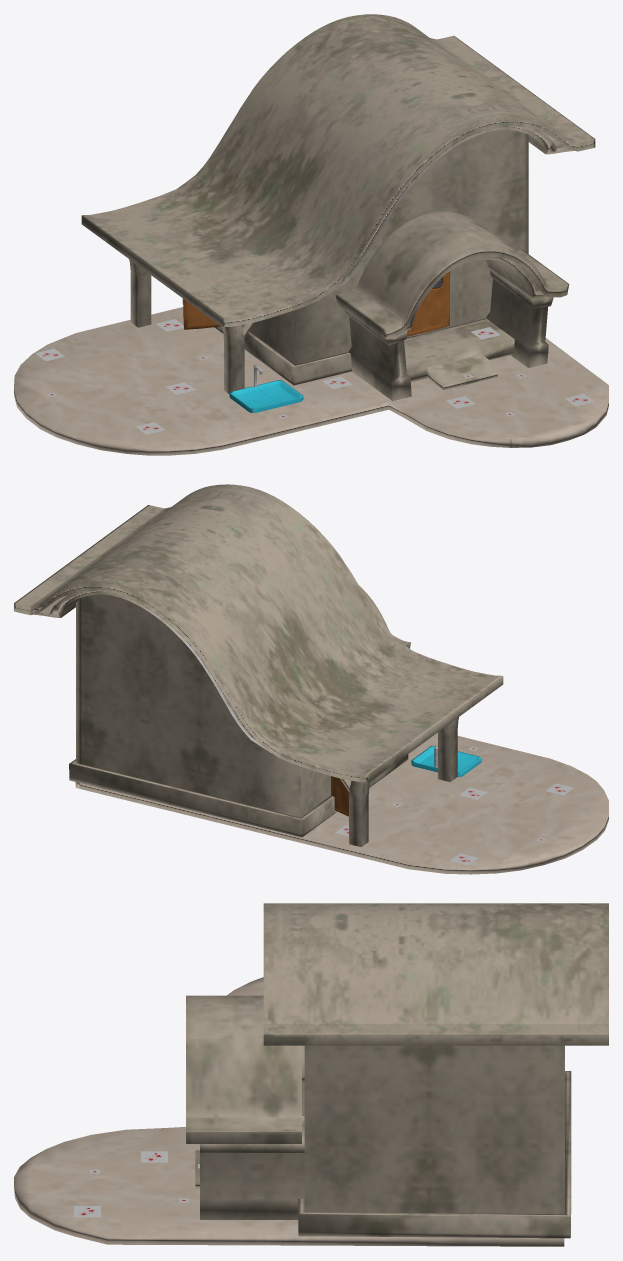
The model's file is MAP 2.fbx.
3 views of the same model, one above another, from view 1: azimuth 30°, elevation 25°; view 2: azimuth 150°, elevation 25°; view 3: azimuth 270°, elevation 25° (orthographic). The views are drawn at different scales.
Parts seen in each view (by area): view 1: House, UP, Bathr, Door01, Door02; view 2: UP, House, Bathr, Door02; view 3: House, UP.
Boxes of the visible parts, bbox=[...] form: House: bbox=[14, 129, 608, 455]; UP: bbox=[81, 14, 595, 393]; Bathr: bbox=[229, 365, 303, 412]; Door01: bbox=[406, 272, 449, 336]; Door02: bbox=[183, 299, 220, 329]; UP: bbox=[14, 484, 503, 847]; House: bbox=[69, 585, 608, 874]; Bathr: bbox=[411, 745, 481, 776]; Door02: bbox=[331, 776, 349, 816]; House: bbox=[14, 977, 571, 1246]; UP: bbox=[263, 903, 608, 1045].
Size of the model in its own units: 1377 by 617 by 1130.
